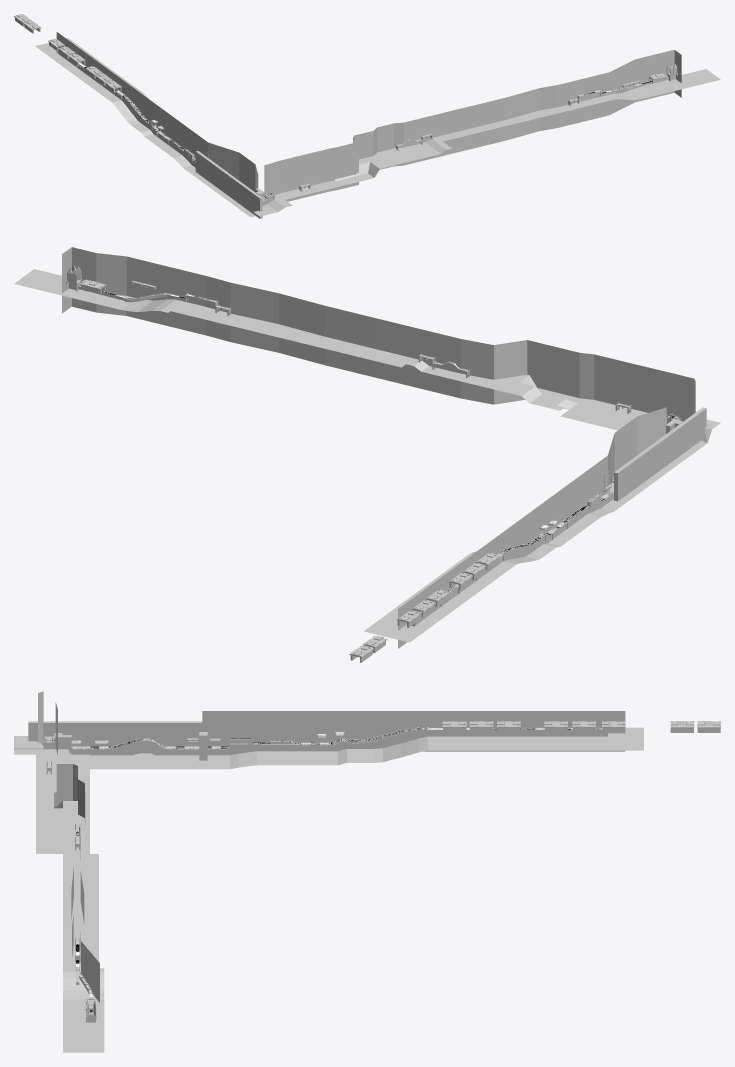
Rendered from w8d01_col.glb.
3 renders of one model, top to bottom at view 1: azimuth 30°, elevation 25°; view 2: azimuth 150°, elevation 25°; view 3: azimuth 270°, elevation 25°, orthographic. The views are drawn at different scales.
Visible parts, largest first — view 1: w8d01_airwall_col, w8d01_falldead_col, w8d01_col; view 2: w8d01_airwall_col, w8d01_falldead_col, w8d01_col; view 3: w8d01_falldead_col, w8d01_col, w8d01_airwall_col.
Boxes of the visible parts, left/top/right/bottom form: w8d01_airwall_col: left=56, top=32, right=681, bottom=201; w8d01_falldead_col: left=35, top=38, right=720, bottom=216; w8d01_col: left=14, top=14, right=677, bottom=218; w8d01_airwall_col: left=62, top=247, right=695, bottom=648; w8d01_falldead_col: left=14, top=269, right=720, bottom=642; w8d01_col: left=66, top=264, right=706, bottom=662; w8d01_falldead_col: left=14, top=727, right=643, bottom=1052; w8d01_col: left=28, top=721, right=720, bottom=1022; w8d01_airwall_col: left=38, top=691, right=625, bottom=1002.
Bounding box in the file's own units: 1720 × 164 × 1571.
Materials: 10 (2 with a texture image).
